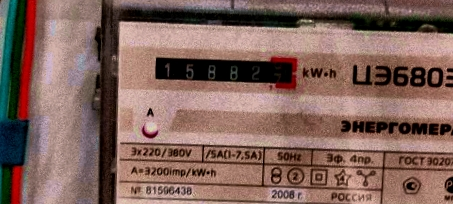1: (161, 59, 172, 78)
2: (249, 62, 261, 81)
5: (183, 61, 195, 79)
7: (271, 71, 282, 82)
8: (227, 62, 239, 81), (204, 62, 217, 79)
screen: (145, 45, 302, 95)
